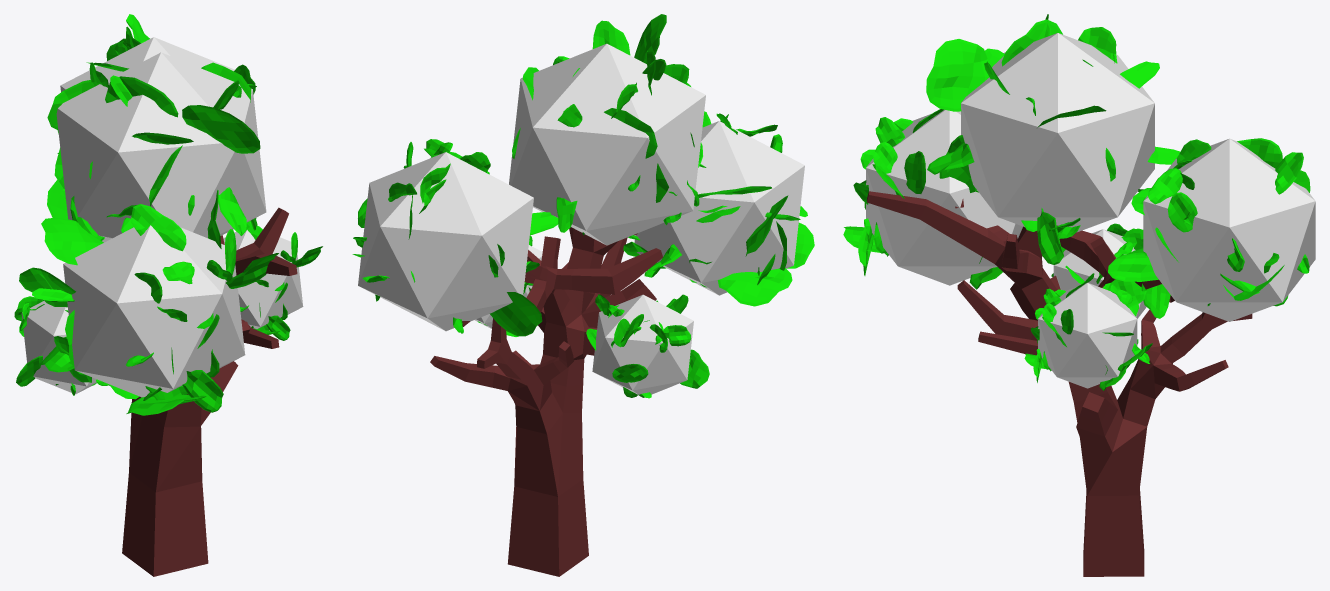
The model's file is Tree-low-poly.fbx.
The picture shows the model from 3 angles, left to right: view 1: azimuth 30°, elevation 25°; view 2: azimuth 150°, elevation 25°; view 3: azimuth 270°, elevation 25°; orthographic projection. The views are drawn at different scales.
Visible parts, largest first — view 1: Icosphere.001, Icosphere, Trunc.001, Icosphere.003, Icosphere.004, Leaf.161, Icosphere.002, Leaf.091, Leaf.105, Leaf.092, Leaf.135, Leaf.087 (+14 smaller); view 2: Trunc.001, Icosphere.001, Icosphere.002, Icosphere, Icosphere.004, Leaf.079, Leaf.003, Leaf.161, Leaf.165, Leaf.150, Leaf.087, Leaf.018 (+1 smaller); view 3: Icosphere.001, Trunc.001, Icosphere.002, Icosphere, Icosphere.003, Leaf.161, Icosphere.004, Leaf.211, Leaf.173, Leaf.225, Leaf.135, Leaf.220 (+8 smaller).
Part boxes in pixels (left/top/right/bottom): Icosphere.001: left=56, top=52, right=266, bottom=242; Icosphere: left=63, top=225, right=245, bottom=397; Trunc.001: left=122, top=207, right=297, bottom=576; Icosphere.003: left=223, top=230, right=303, bottom=328; Icosphere.004: left=21, top=300, right=96, bottom=394; Leaf.161: left=182, top=105, right=260, bottom=153; Icosphere.002: left=60, top=37, right=234, bottom=91; Leaf.091: left=41, top=217, right=103, bottom=265; Leaf.105: left=130, top=204, right=186, bottom=251; Leaf.092: left=182, top=370, right=223, bottom=412; Leaf.135: left=105, top=76, right=178, bottom=117; Leaf.087: left=19, top=267, right=75, bottom=307; Trunc.001: left=430, top=227, right=662, bottom=576; Icosphere.001: left=509, top=43, right=705, bottom=245; Icosphere.002: left=358, top=152, right=533, bottom=331; Icosphere: left=634, top=121, right=804, bottom=295; Icosphere.004: left=592, top=294, right=693, bottom=397; Leaf.079: left=717, top=268, right=792, bottom=306; Leaf.003: left=490, top=292, right=542, bottom=336; Leaf.161: left=634, top=14, right=666, bottom=63; Leaf.165: left=592, top=20, right=630, bottom=55; Leaf.150: left=604, top=108, right=657, bottom=158; Leaf.087: left=745, top=195, right=788, bottom=256; Leaf.018: left=680, top=349, right=709, bottom=388; Icosphere.001: left=961, top=33, right=1154, bottom=238; Trunc.001: left=867, top=191, right=1252, bottom=576; Icosphere.002: left=1143, top=138, right=1315, bottom=321; Icosphere: left=866, top=109, right=1022, bottom=285; Icosphere.003: left=1038, top=282, right=1137, bottom=388; Leaf.161: left=926, top=39, right=989, bottom=111; Icosphere.004: left=1053, top=229, right=1146, bottom=318; Leaf.211: left=1108, top=252, right=1158, bottom=281; Leaf.173: left=1037, top=208, right=1063, bottom=264; Leaf.225: left=1167, top=192, right=1197, bottom=232; Leaf.135: left=1001, top=19, right=1062, bottom=66; Leaf.220: left=1148, top=168, right=1182, bottom=204.
Bounding box in the file's own units: 3.08 × 4.67 × 3.88.
